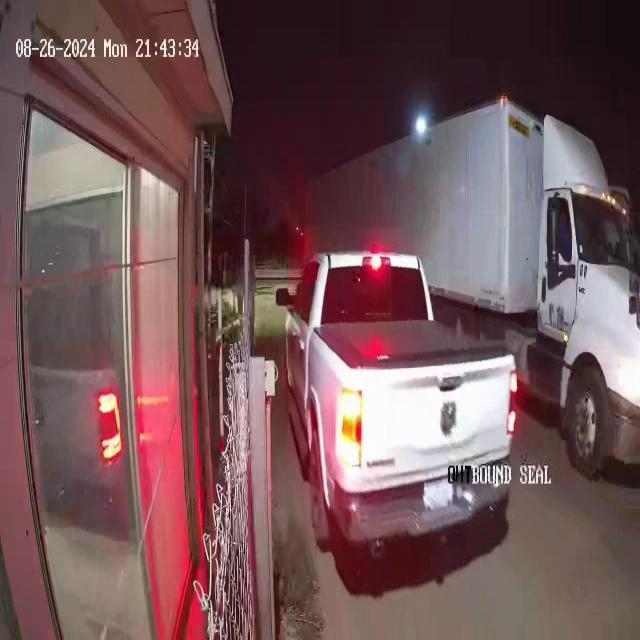TRUCK_CONTAINER: (397, 100, 640, 483)
